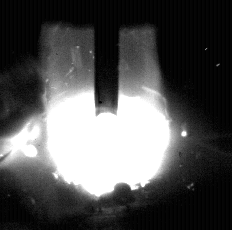arame: (95, 0, 120, 118)
poca: (45, 0, 171, 230)
